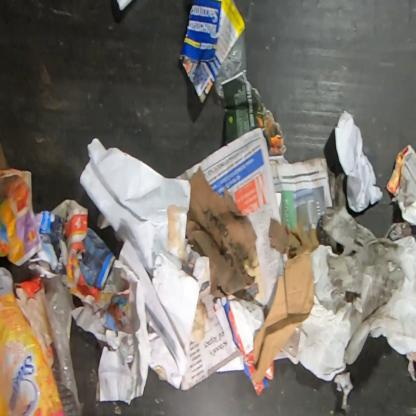soft_plastic: (0, 267, 67, 415), (251, 247, 315, 384), (41, 272, 85, 416), (213, 294, 275, 396), (214, 31, 247, 99)
